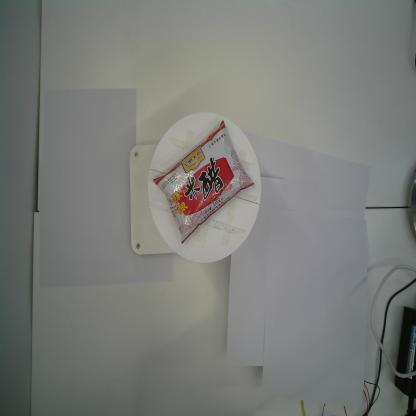Seasoner: (152, 116, 255, 246)
